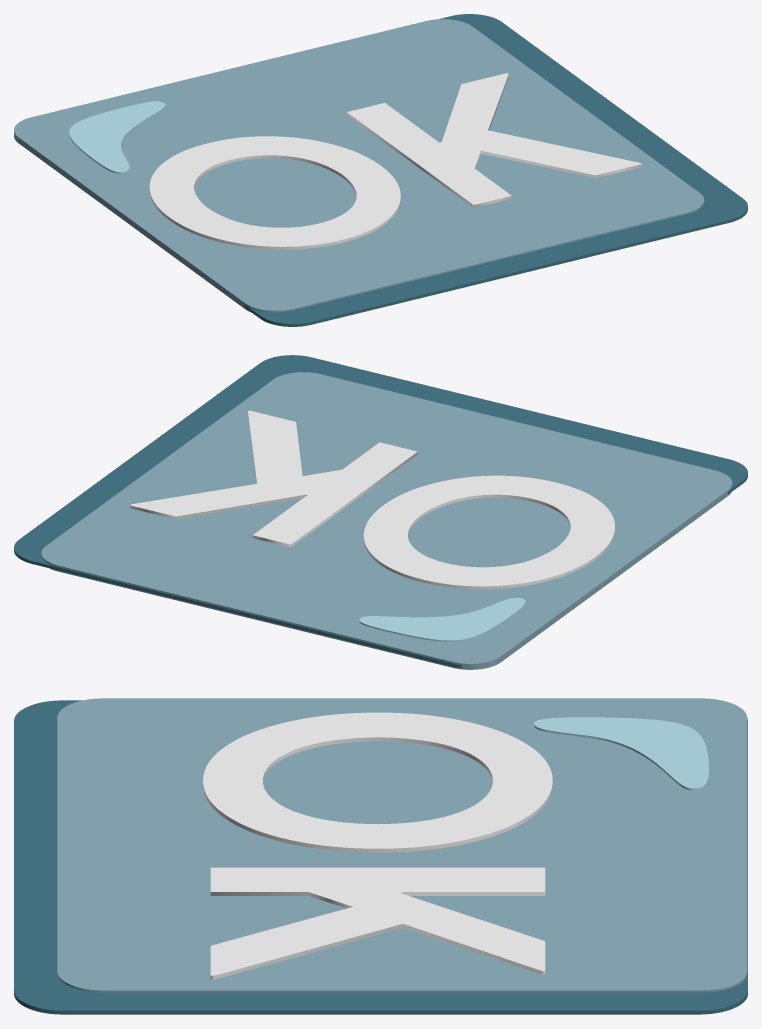
The model's file is emoji_u1f197.glb.
3 renders of one model, top to bottom at view 1: azimuth 30°, elevation 25°; view 2: azimuth 150°, elevation 25°; view 3: azimuth 270°, elevation 25°, orthographic. The views are drawn at different scales.
Visible parts, largest first — view 1: emoji_u1f197; view 2: emoji_u1f197; view 3: emoji_u1f197.
Boxes of the visible parts, x1=… form: emoji_u1f197: x1=14, y1=14, x2=747, y2=326; emoji_u1f197: x1=14, y1=355, x2=747, y2=669; emoji_u1f197: x1=14, y1=698, x2=747, y2=1014.
Size of the model in its own units: 0.0339 by 0.0008 by 0.0339.
